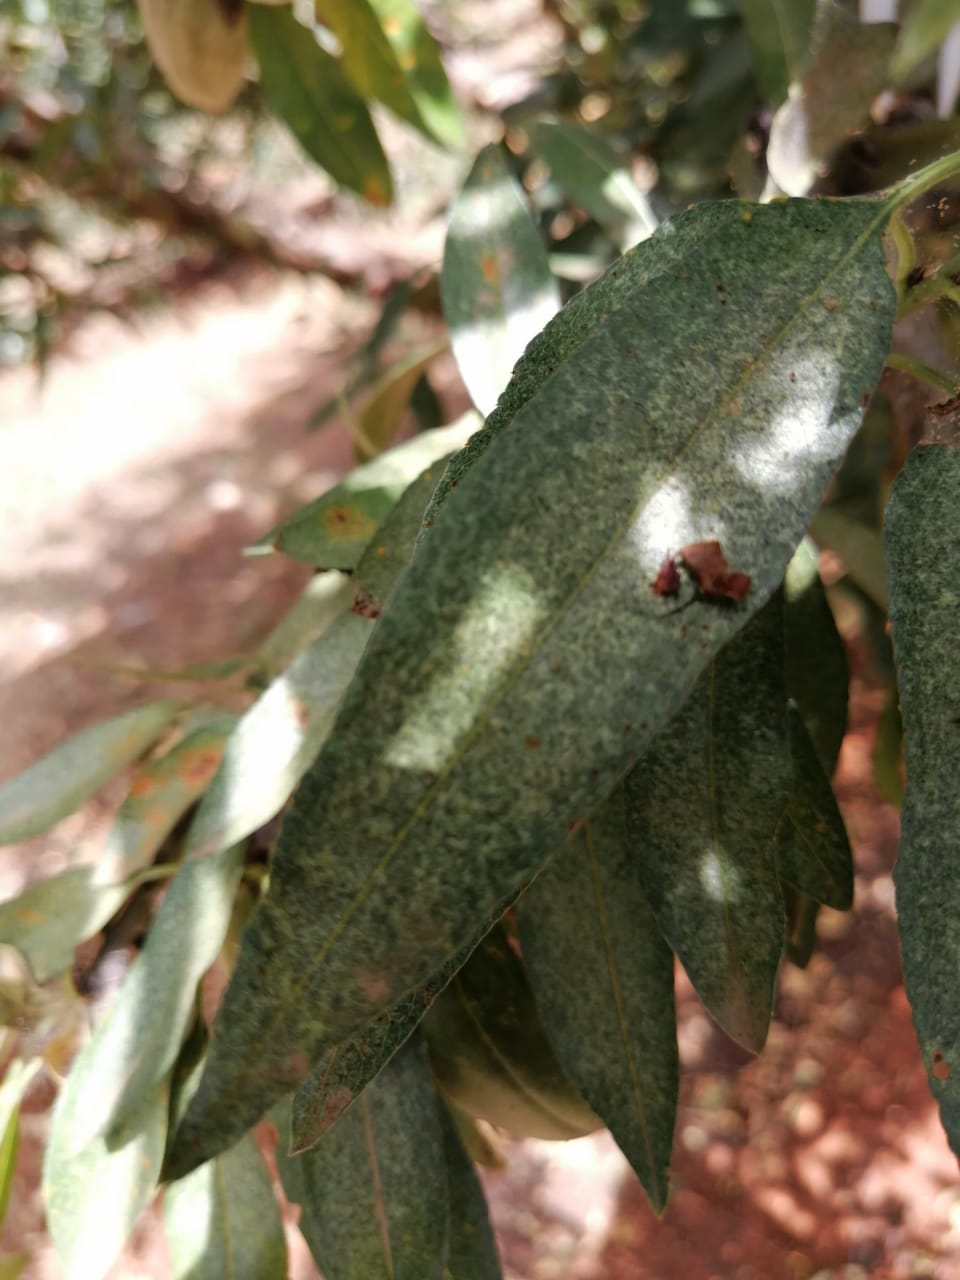acariens: (157, 195, 892, 1184)
